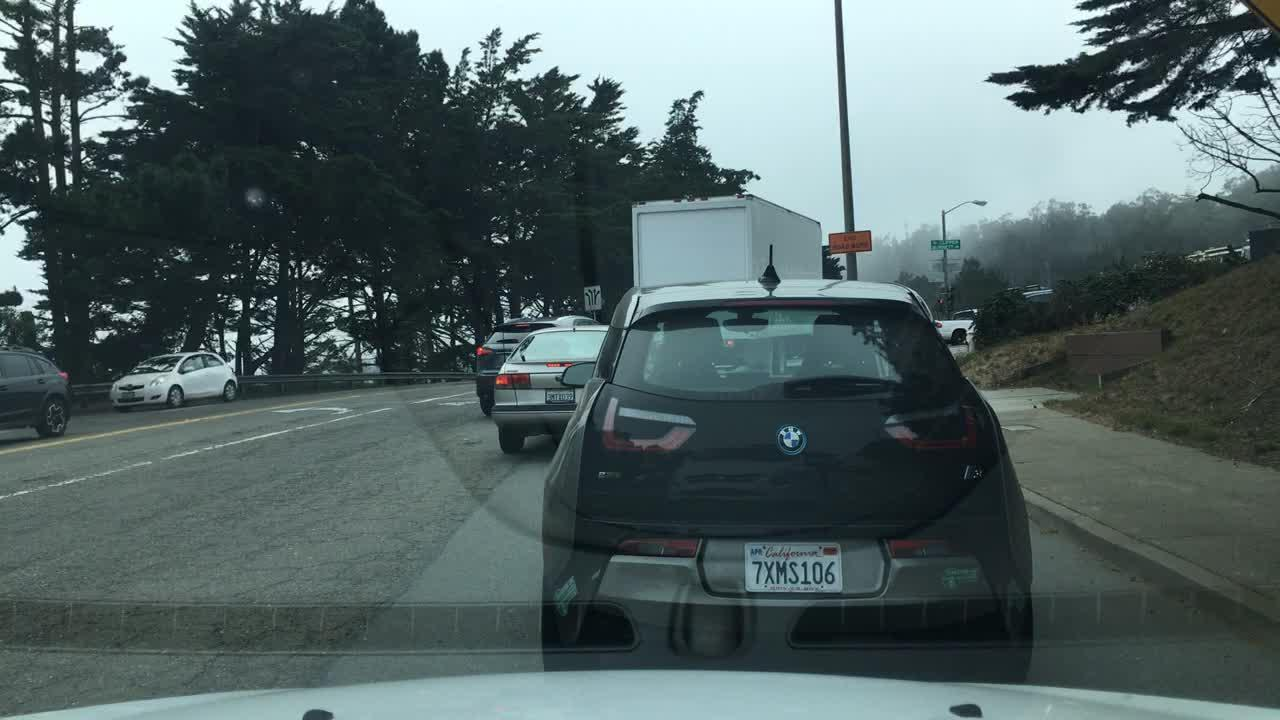bmw: (765, 408, 815, 461)
